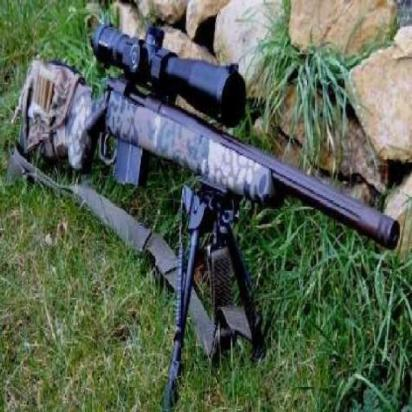Gun: (18, 11, 403, 265)
